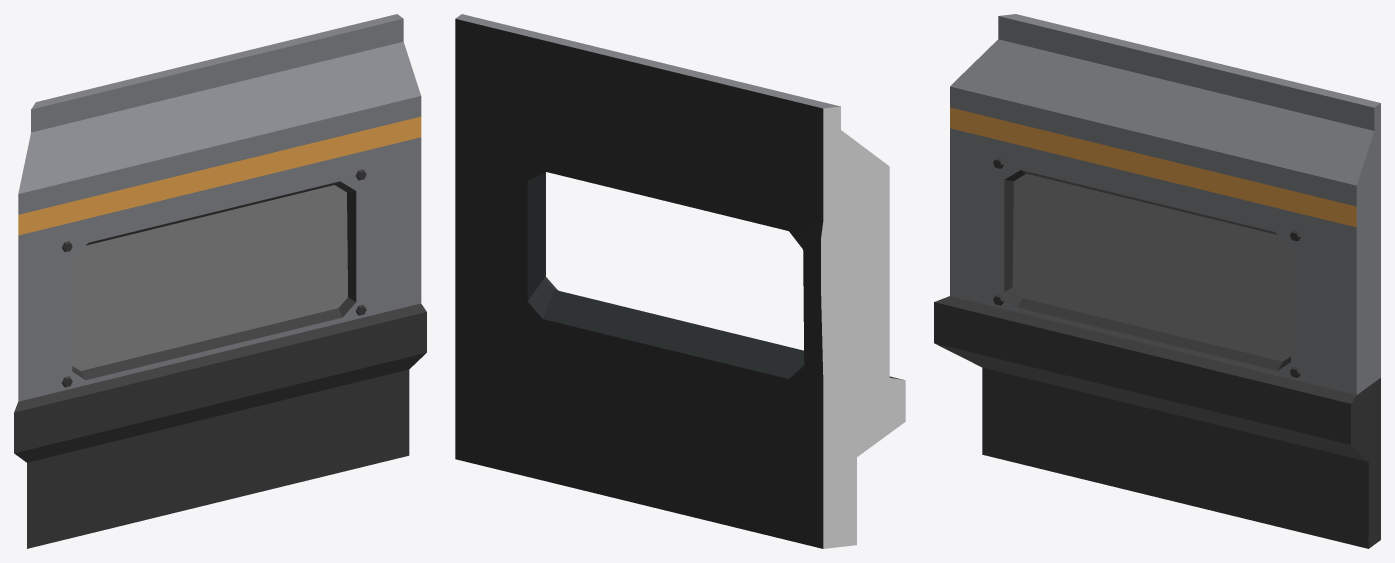
3 views of the same model, side by side, from view 1: azimuth 30°, elevation 25°; view 2: azimuth 150°, elevation 25°; view 3: azimuth 330°, elevation 25° (orthographic).
Parts seen in each view (by area): view 1: Boolean_1A8A1B4F; view 2: Boolean_1A8A1B4F; view 3: Boolean_1A8A1B4F.
Boxes of the visible parts, x1,y1,x2,y2 form: Boolean_1A8A1B4F: (14,14,426,548); Boolean_1A8A1B4F: (455,14,905,548); Boolean_1A8A1B4F: (934,14,1380,548).
Bounding box in the file's own units: 4.99 × 5 × 0.6438.
Materials: 3 (1 with a texture image).
